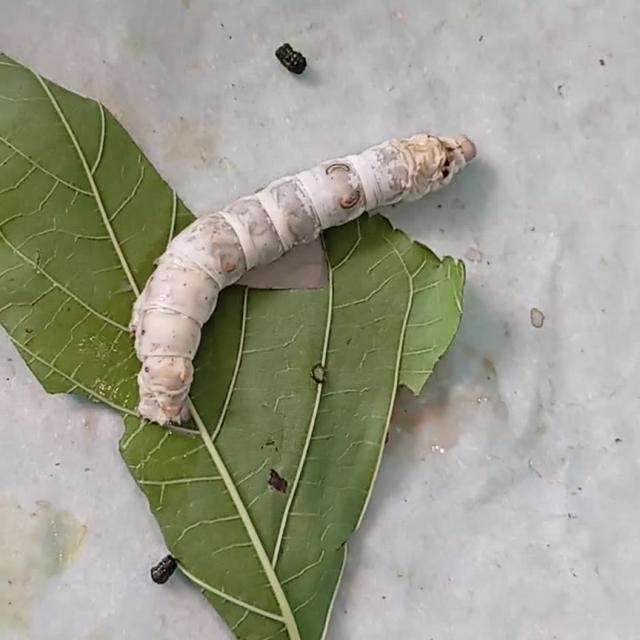Grasserie: (126, 115, 486, 437)
